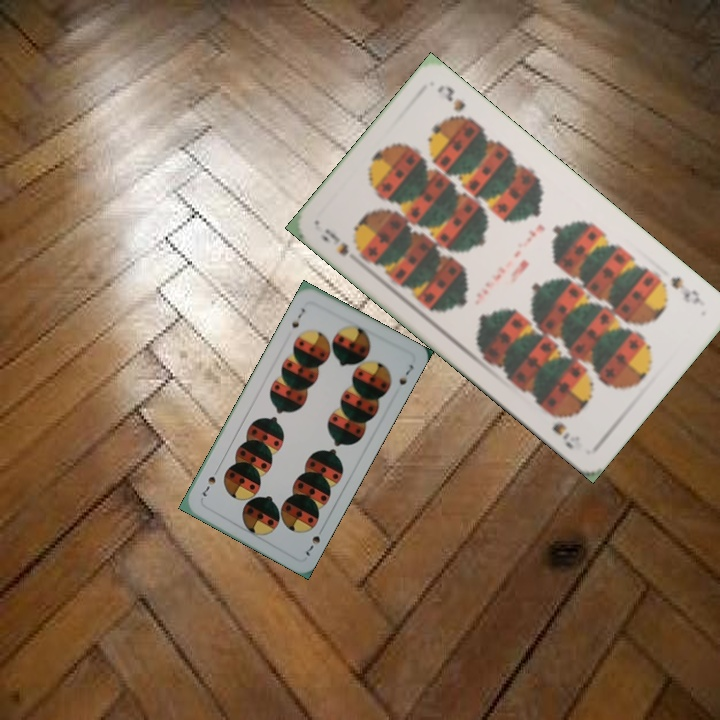S7: (301, 523, 326, 559), (287, 304, 308, 332)
S9: (666, 272, 708, 309), (315, 224, 351, 259)
